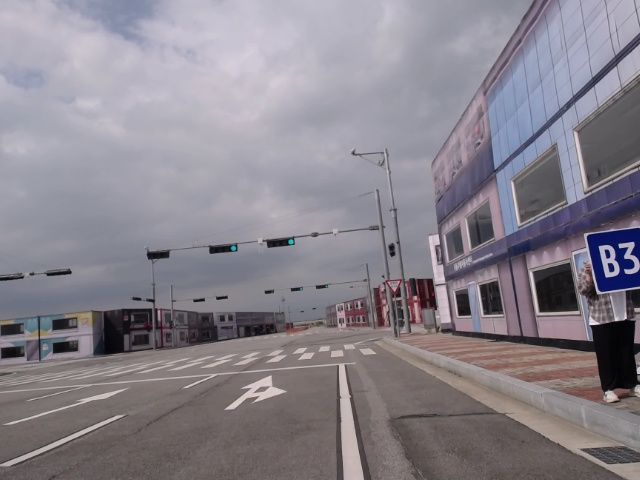delivery_b3: (583, 230, 639, 291)
straight_green_4: (264, 236, 296, 251), (205, 242, 240, 255), (289, 286, 305, 294), (313, 284, 331, 289)
